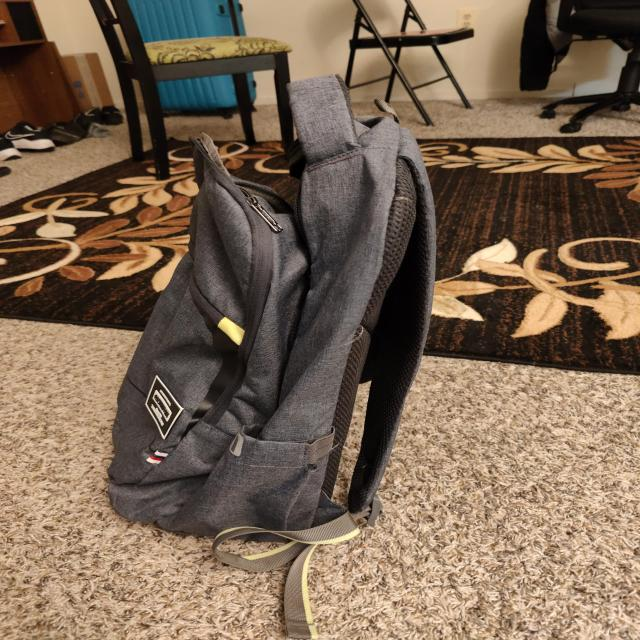bag: (105, 77, 408, 548)
